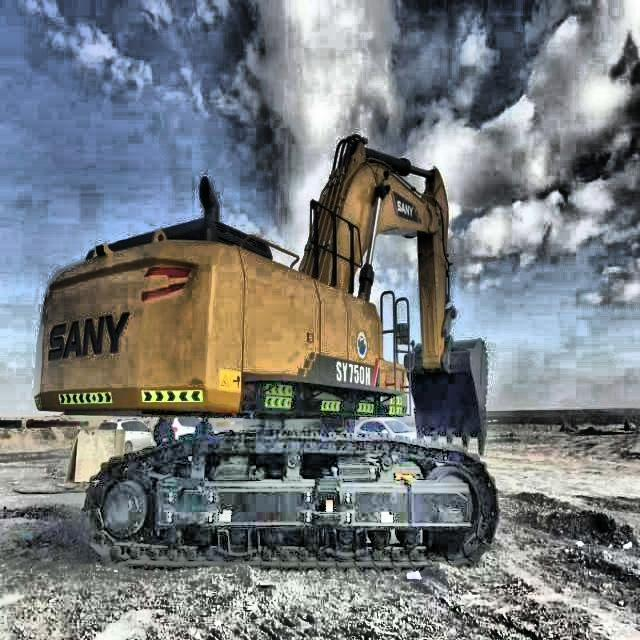excavator: (33, 132, 501, 576)
